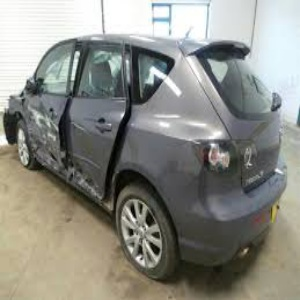door: (33, 109, 120, 182)
tail_lights: (189, 136, 239, 173)
